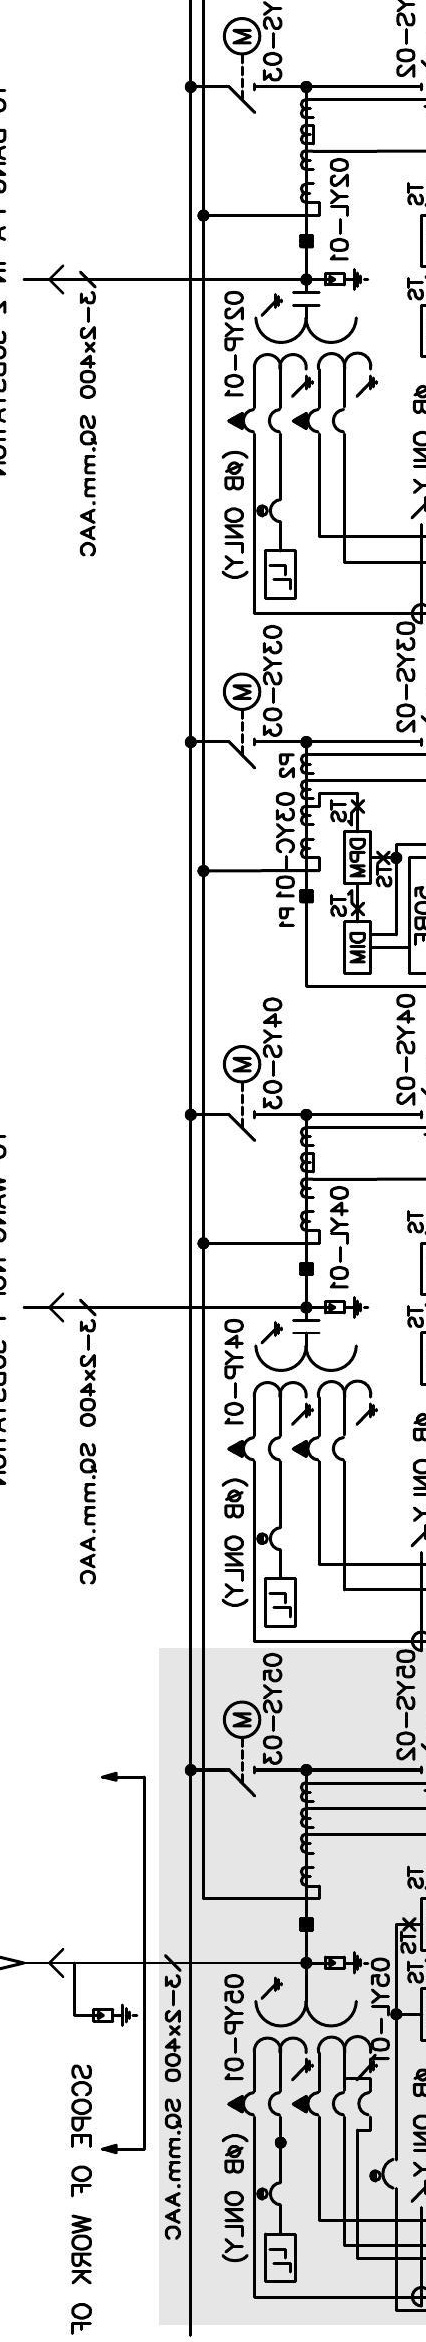115_1way_ds_w_motor: (221, 16, 262, 115), (221, 671, 262, 770), (222, 1044, 262, 1143), (222, 1699, 262, 1798)
115_cvt_1p: (226, 290, 379, 436), (227, 1318, 379, 1464)
115_la: (324, 1295, 370, 1320), (324, 267, 370, 291), (324, 1951, 370, 1975), (92, 2004, 139, 2027)
115_vt_1p: (227, 1976, 378, 2119)
DIM: (342, 920, 372, 976)
DPM: (342, 829, 372, 886)
LL: (264, 2232, 298, 2284), (264, 1577, 298, 1628), (264, 549, 297, 600)
